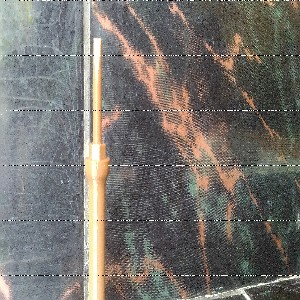obeng: (83, 37, 111, 300)
